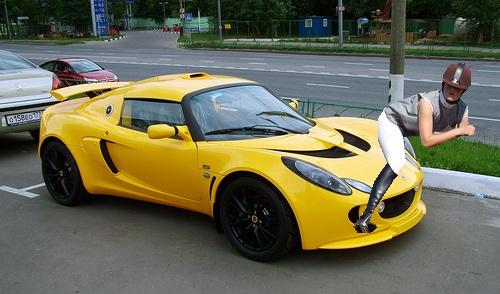tampered: (354, 64, 475, 233)
